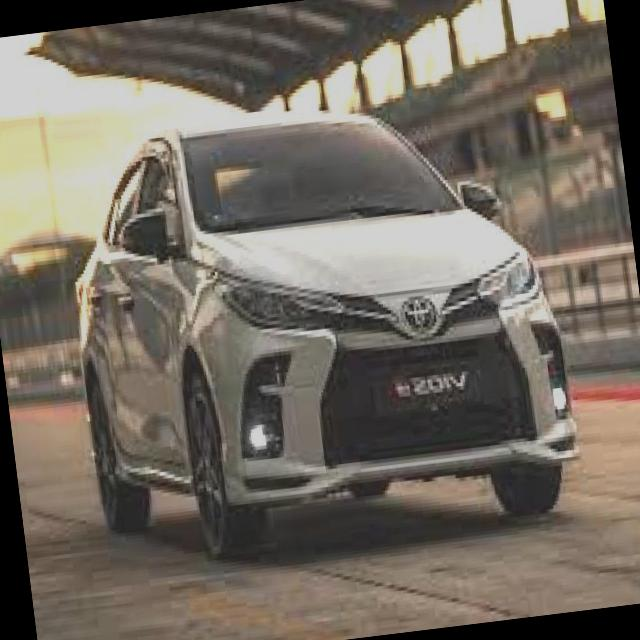ToyotaVios: (52, 83, 590, 572)
